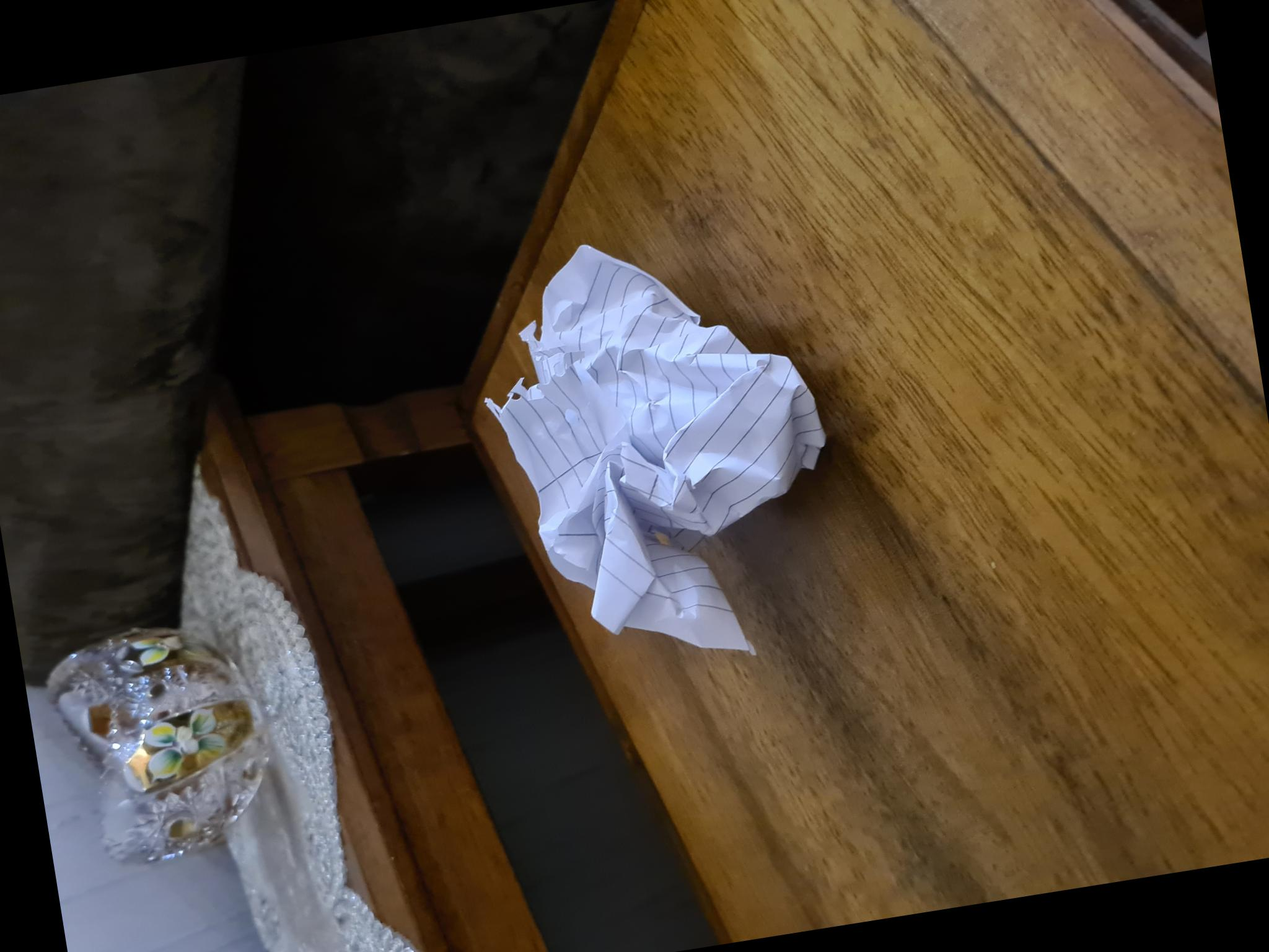Kertas: (345, 511, 730, 847)
